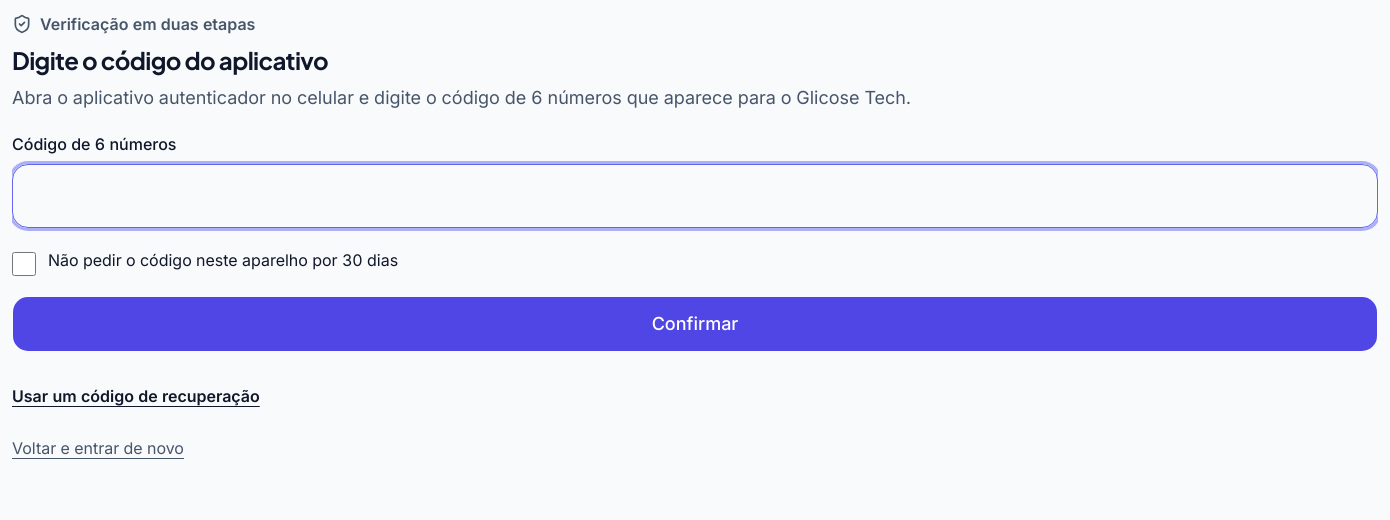
Test: TwoFactorChallenge (segunda etapa do login) › código errado mostra mensagem clara e não entra
Type "000000" into the field labelled "Código de 6 números" at (695, 196), box left=12, top=164, right=1378, bottom=228
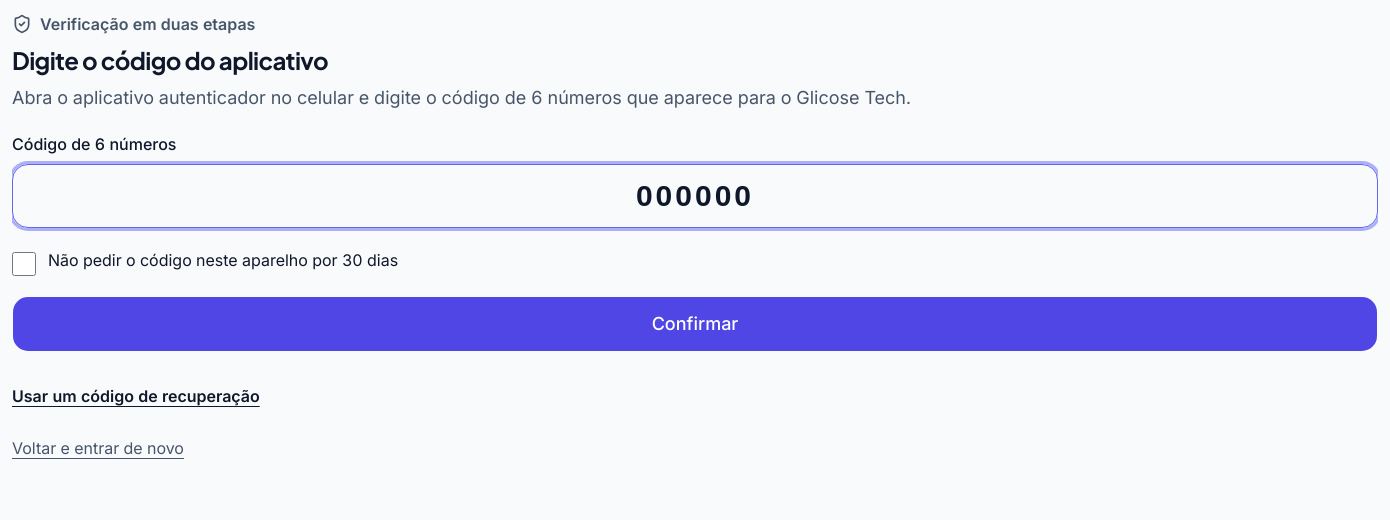
Click the button "Confirmar" at (695, 324), box left=12, top=296, right=1378, bottom=352
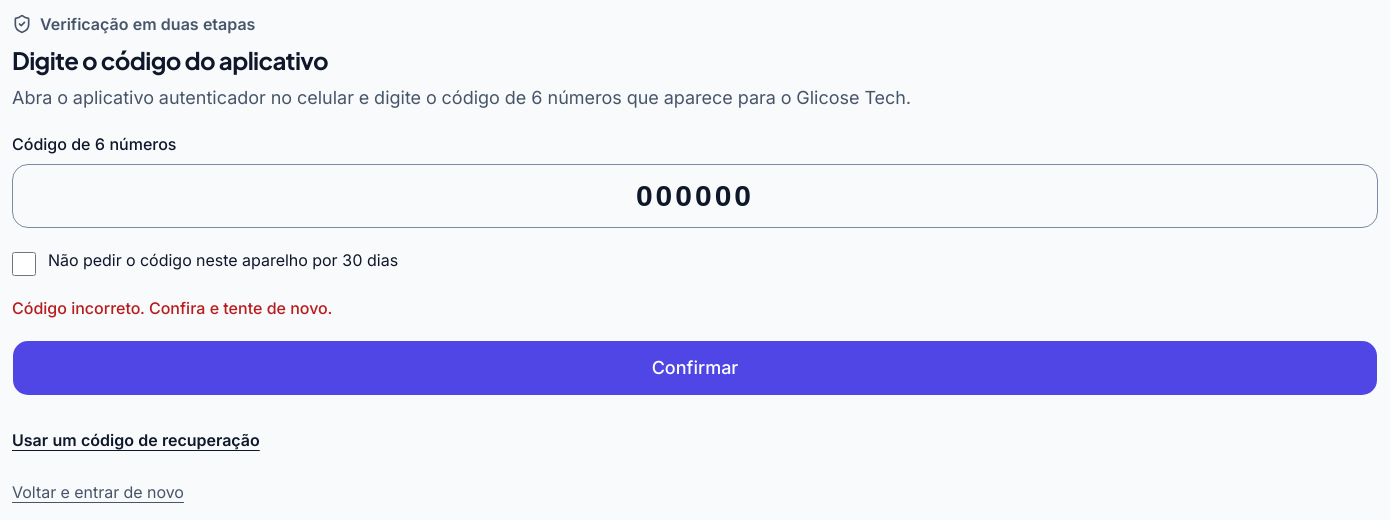
Expected: the message shows "Código incorreto", left=12, top=298, right=332, bottom=318
